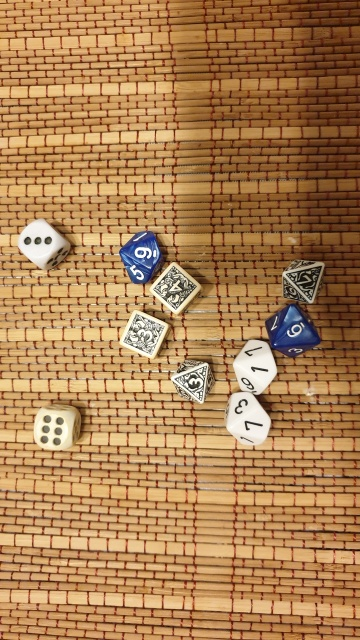d10-1: (229, 338, 277, 397)
d10-6: (260, 303, 325, 363)
d10-7: (221, 390, 276, 451)
d10-9: (122, 228, 165, 287)
d6-3: (14, 214, 71, 271)
d6-6: (28, 400, 88, 456)
d6p-3: (116, 307, 172, 362)
d6p-4: (149, 262, 205, 316)
d8p-3: (171, 356, 215, 407)
d8p-7: (279, 252, 329, 307)
